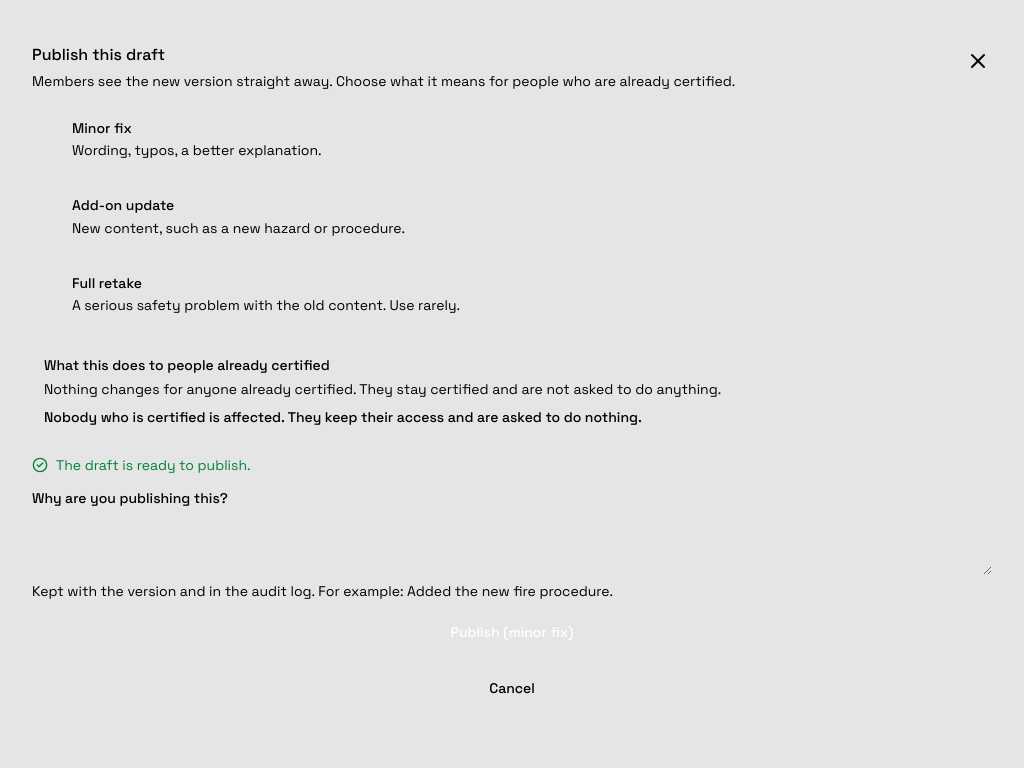
PublishDialog publishing › shows a conflict message, such as someone else publishing at the same time
Expected: the text "The draft is ready to publish." is shown, [32,456,250,474]
Type "  New fire procedure " into the text box labelled "Why are you publishing this?" at {"x": 512, "y": 542}, box [32,510,992,574]
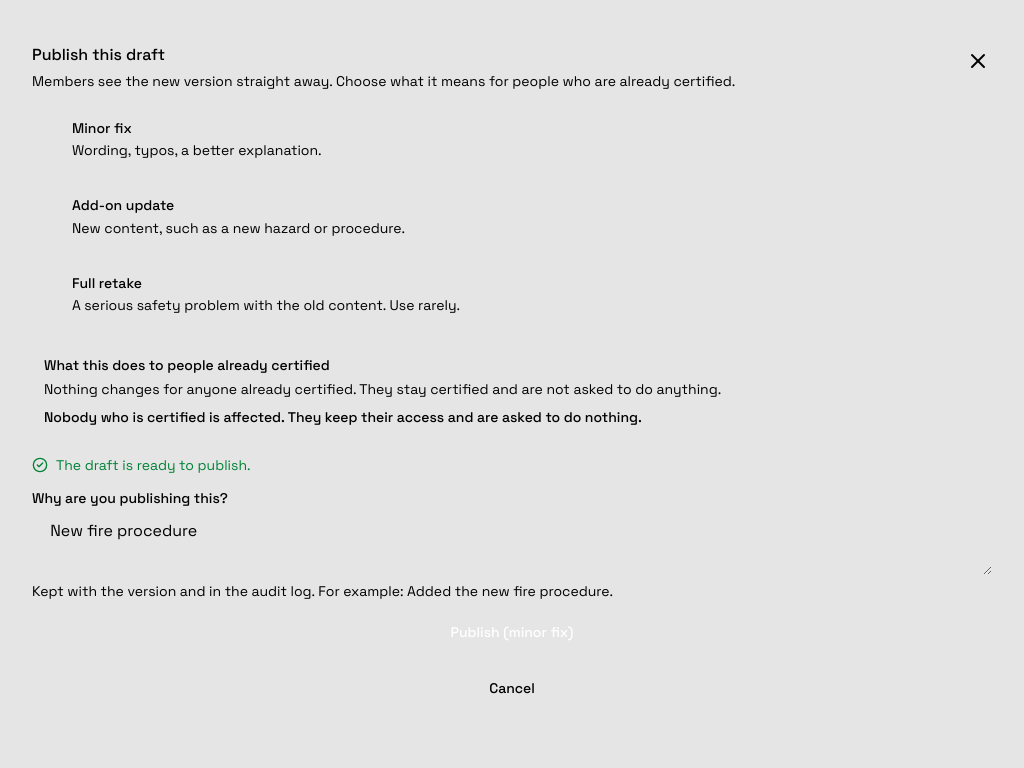
Click the button "Publish (minor fix)" at {"x": 512, "y": 631}, box [32,609,992,653]
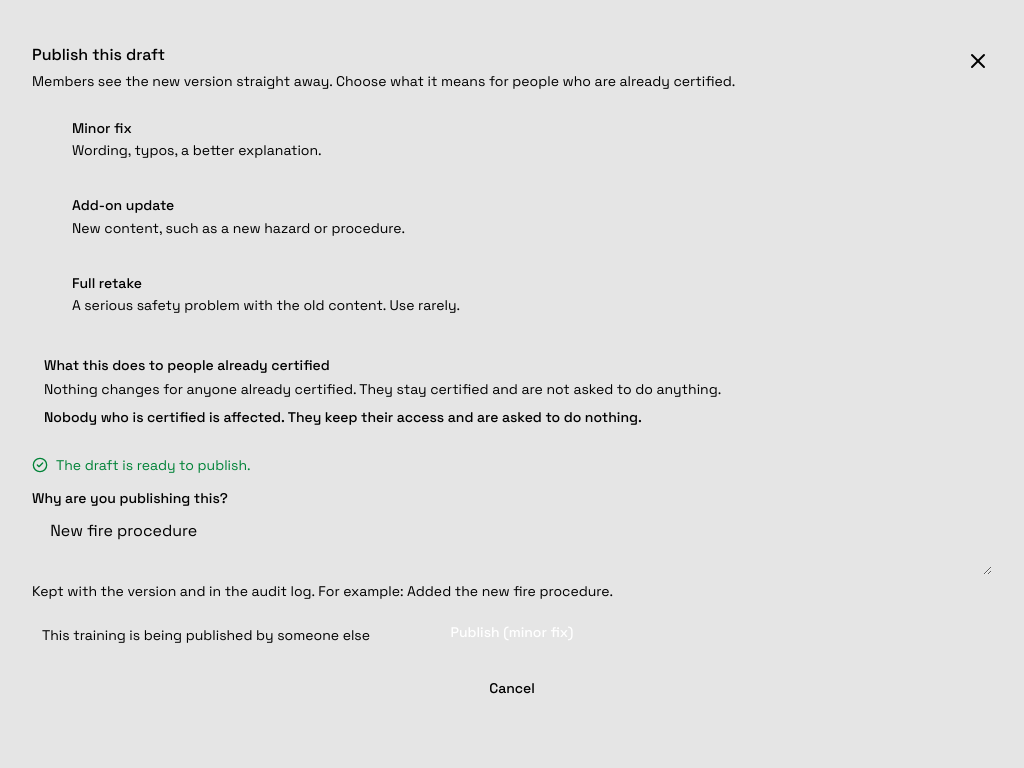
Result: the text "This training is being published by someone else" is shown at [42,626,370,644]
